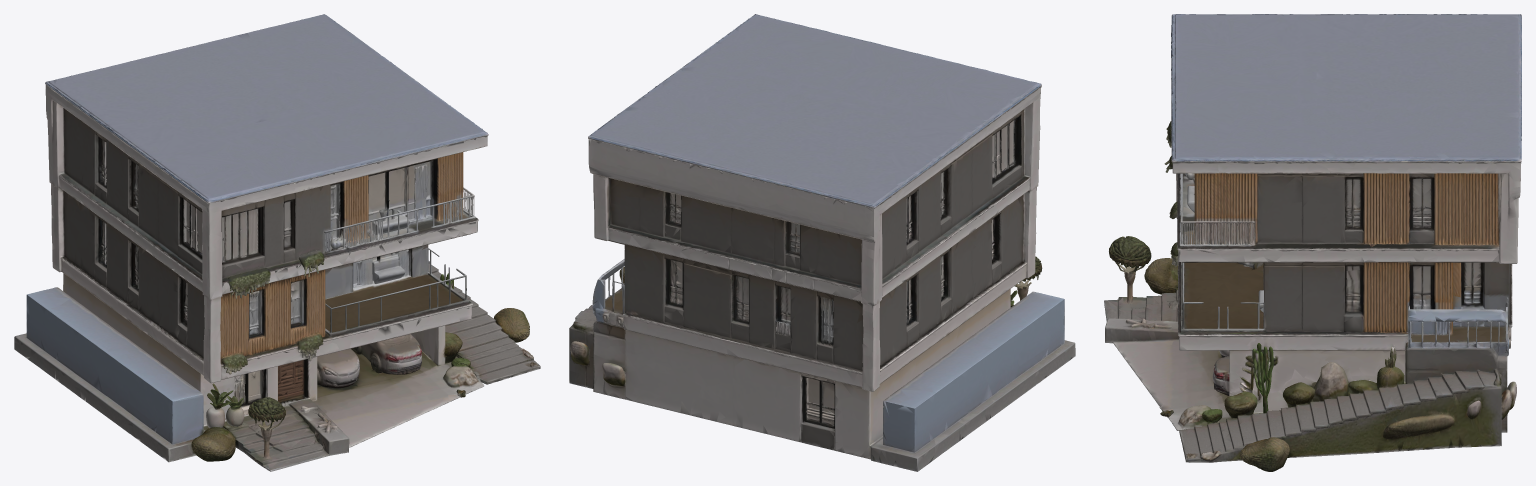
The model's file is villa-low.glb.
3 renders of one model, left to right at view 1: azimuth 30°, elevation 25°; view 2: azimuth 150°, elevation 25°; view 3: azimuth 270°, elevation 25°, orthographic. The views are drawn at different scales.
Visible parts, largest first — view 1: modern house 3d model_Clone1; view 2: modern house 3d model_Clone1; view 3: modern house 3d model_Clone1.
Part boxes in pixels (bbox=[...]): modern house 3d model_Clone1: bbox=[14, 14, 540, 471]; modern house 3d model_Clone1: bbox=[569, 14, 1075, 471]; modern house 3d model_Clone1: bbox=[1104, 14, 1521, 471].
Size of the model in its own units: 0.9795 by 0.5977 by 0.8293.
1 material, 1 textured.
